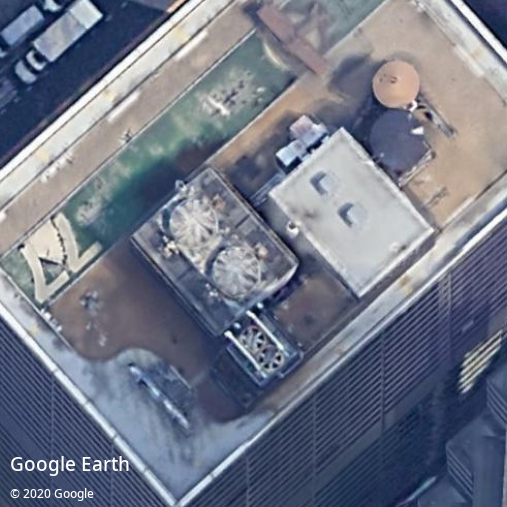Vent: (213, 246, 260, 297), (170, 198, 218, 247), (256, 344, 283, 372), (239, 326, 265, 354)
